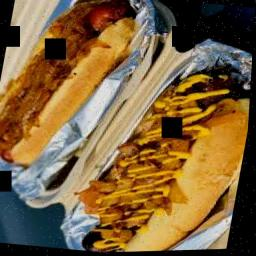hotdog: (72, 56, 253, 254), (0, 0, 145, 180)
